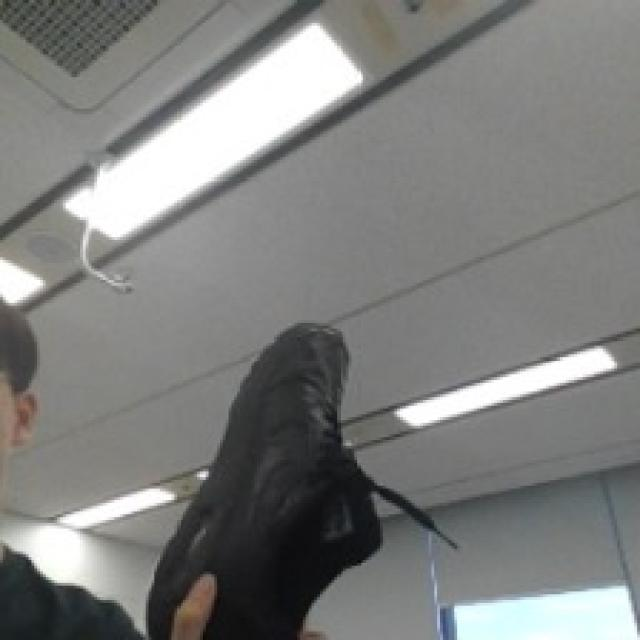shoe: (134, 286, 437, 640)
